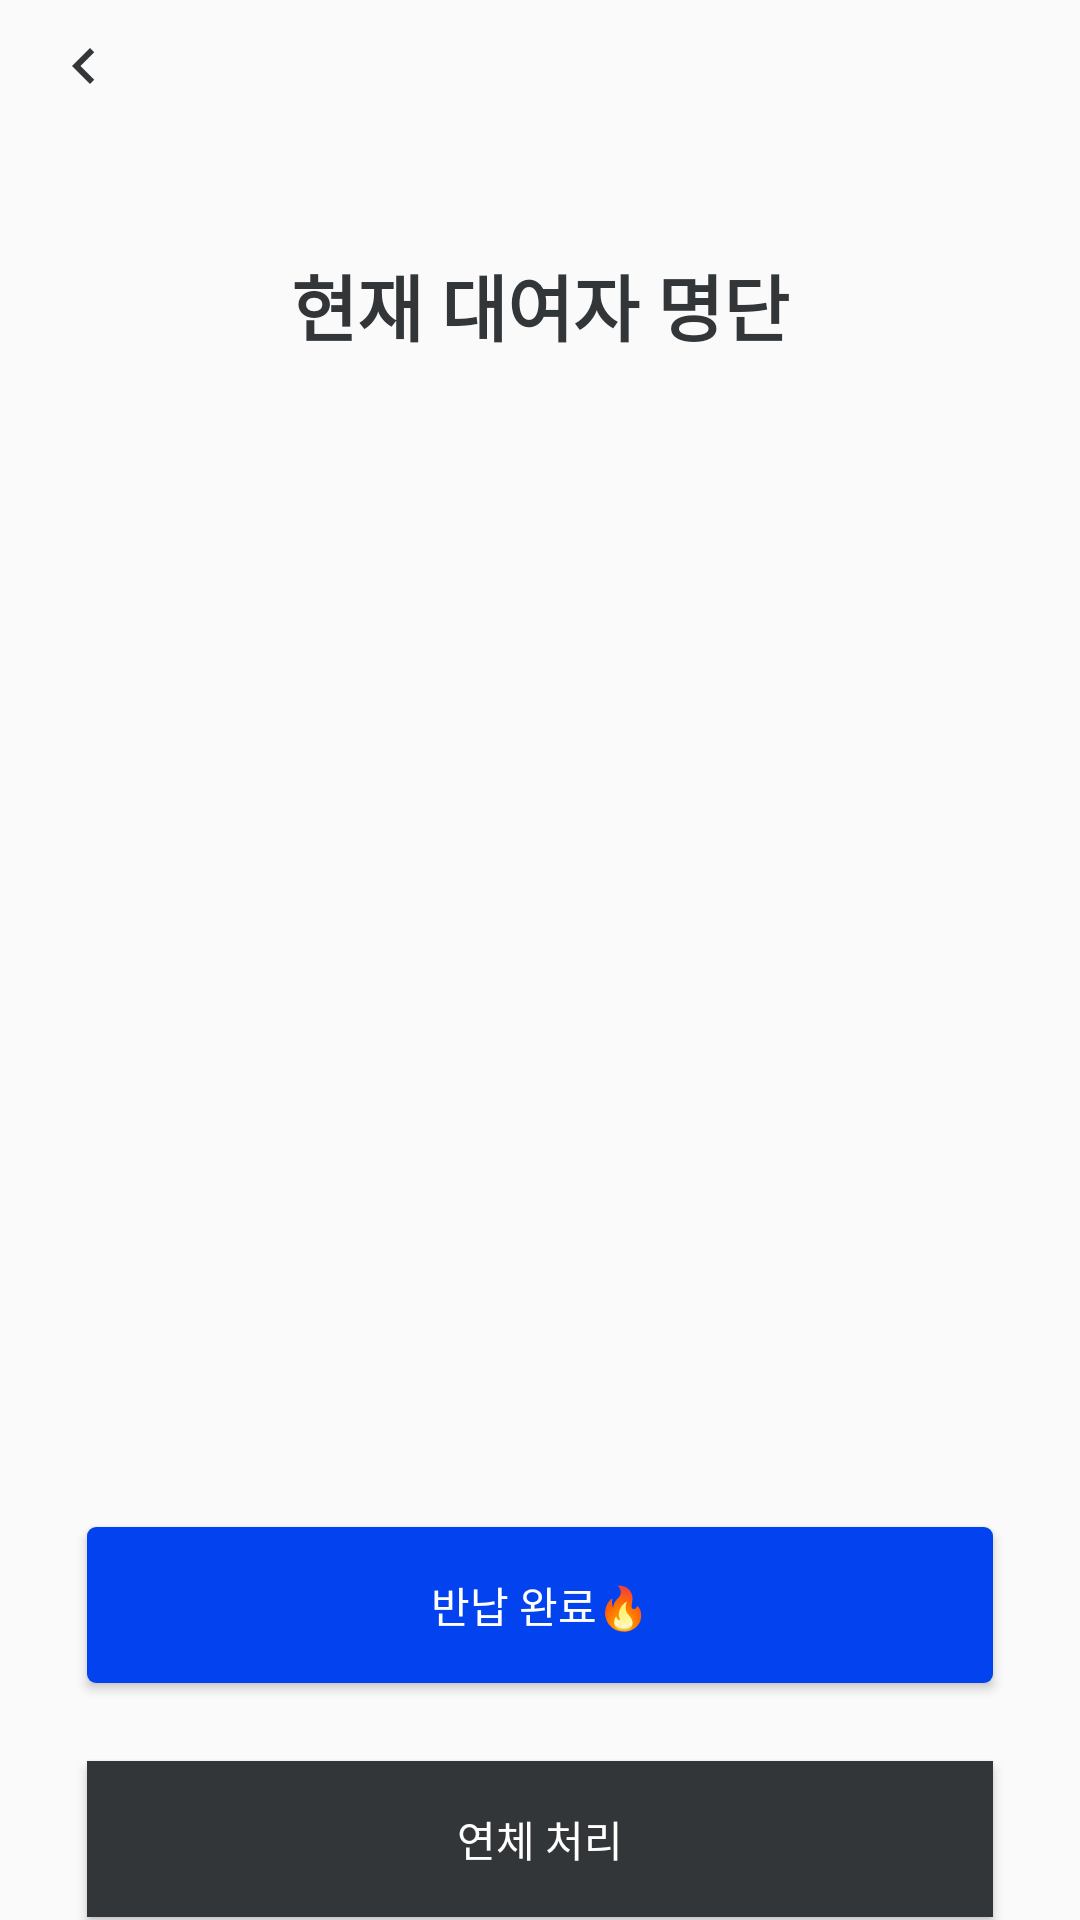

Screen size 1080 × 1920. Icon name, then its box in pixels as (x1, y1, x2, y2):
chevron left: (72, 48, 94, 84)
